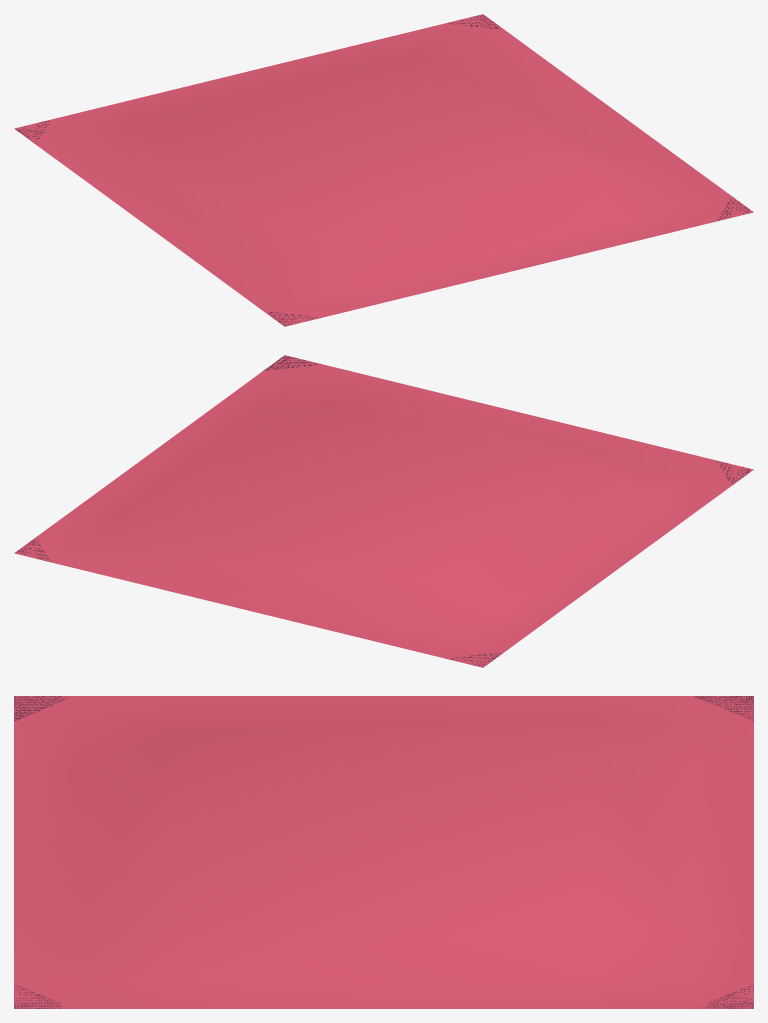
Rendered from PP_Gom.fbx.
The picture shows the model from 3 angles, top to bottom: view 1: azimuth 30°, elevation 25°; view 2: azimuth 150°, elevation 25°; view 3: azimuth 270°, elevation 25°; orthographic projection. The views are drawn at different scales.
Parts seen in each view (by area): view 1: Gom; view 2: Gom; view 3: Gom.
Boxes of the visible parts, x1,y1,x2,y2 form: Gom: [14, 14, 753, 326]; Gom: [14, 355, 753, 667]; Gom: [14, 696, 753, 1008].
Size of the model in its own units: 0.055 by 0.00463 by 0.055.
